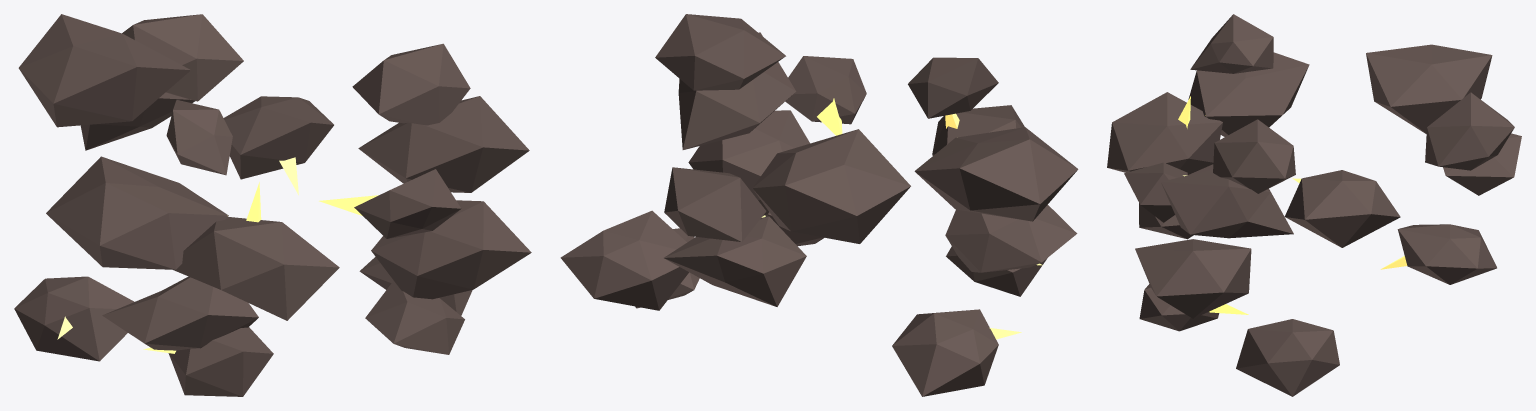
File: ob_ember2.glb
The picture shows the model from 3 angles, left to right: view 1: azimuth 30°, elevation 25°; view 2: azimuth 150°, elevation 25°; view 3: azimuth 270°, elevation 25°; orthographic projection. The views are drawn at different scales.
Bounding box in the file's own units: 1.31 × 0.884 × 1.32.
